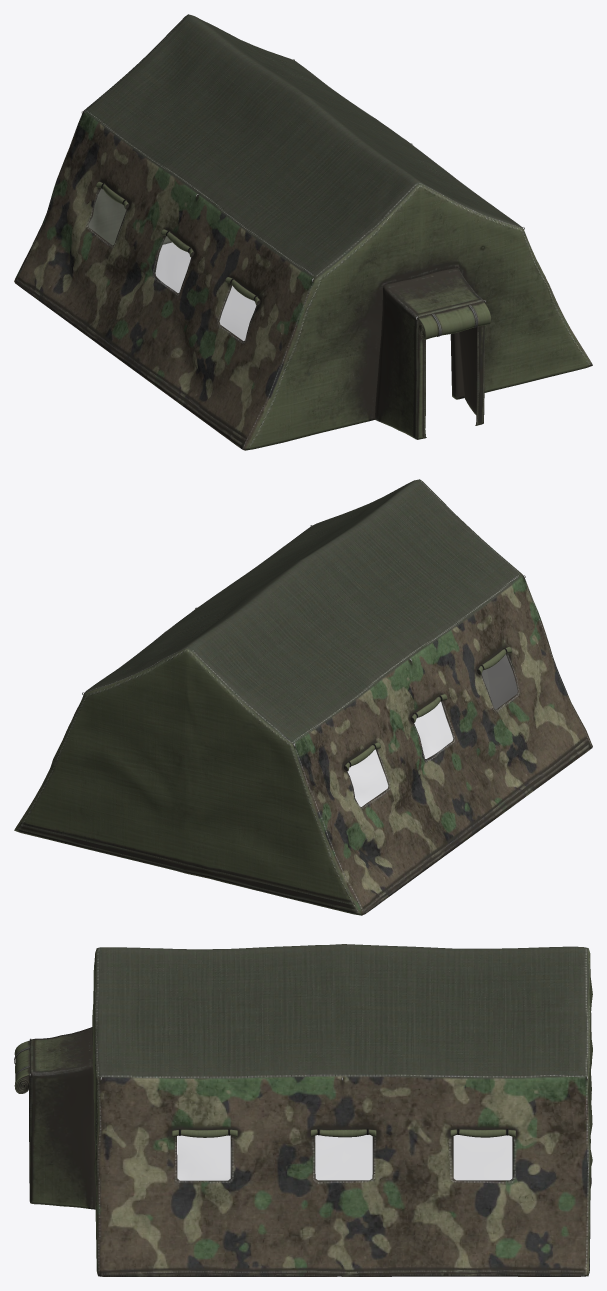
Rendered from tent_military.glb.
3 renders of one model, top to bottom at view 1: azimuth 30°, elevation 25°; view 2: azimuth 150°, elevation 25°; view 3: azimuth 270°, elevation 25°, orthographic. The views are drawn at different scales.
Visible parts, largest first — view 1: tent_military_0, tent_military_1; view 2: tent_military_0, tent_military_1; view 3: tent_military_0, tent_military_1.
Boxes of the visible parts, <box> form: tent_military_0: <box>14,14,592,450</box>; tent_military_1: <box>88,188,255,340</box>; tent_military_0: <box>14,479,592,915</box>; tent_military_1: <box>348,654,517,806</box>; tent_military_0: <box>14,944,592,1276</box>; tent_military_1: <box>177,1135,512,1180</box>.
Size of the model in its own units: 6.28 by 3.92 by 8.46.
2 materials, 1 textured.
